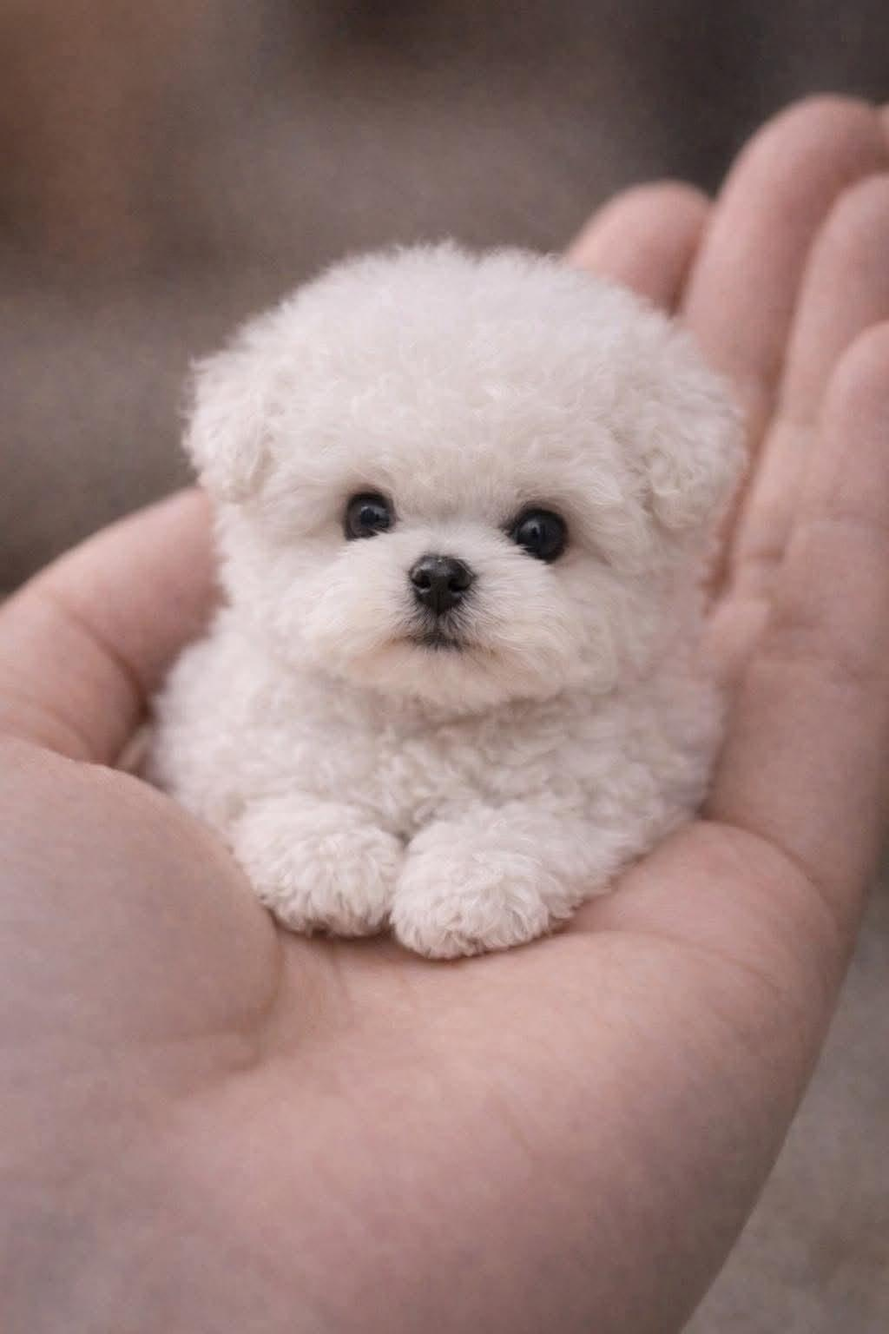puppy-dog: (135, 243, 754, 963)
